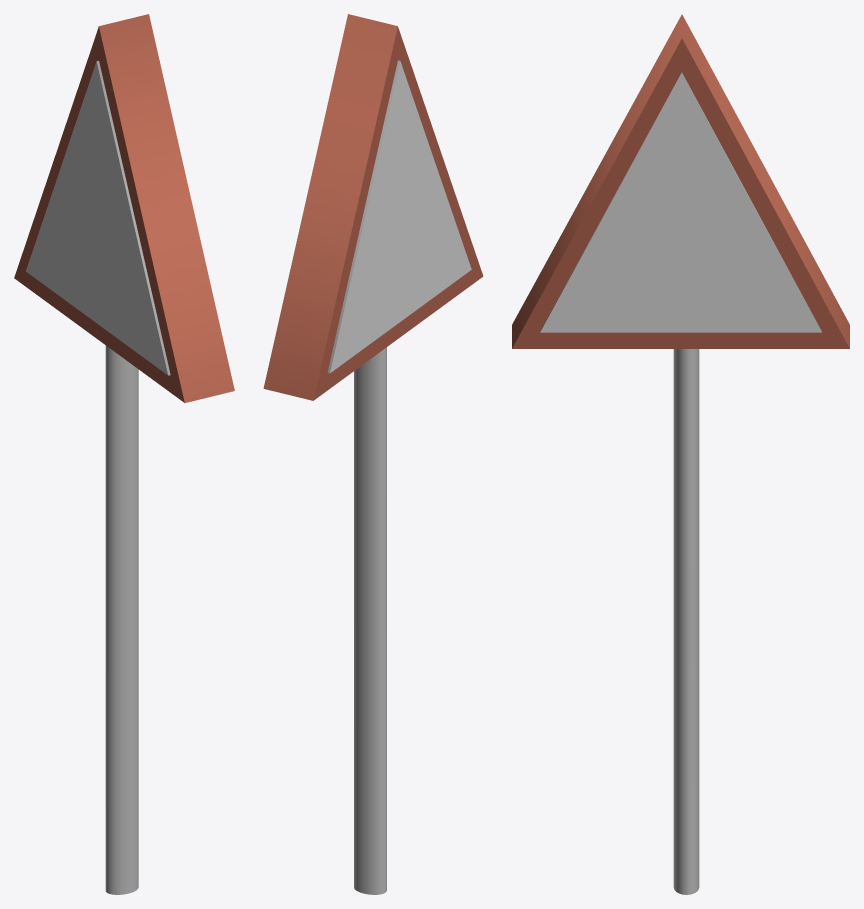
File: Sign.fbx
3 views of the same model, side by side, from view 1: azimuth 30°, elevation 25°; view 2: azimuth 150°, elevation 25°; view 3: azimuth 270°, elevation 25° (orthographic).
Visible parts, largest first — view 1: polySurface1; view 2: polySurface1; view 3: polySurface1.
Boxes of the visible parts, x1,y1,x2,y2 form: polySurface1: (14, 14, 234, 894); polySurface1: (263, 14, 483, 894); polySurface1: (512, 14, 849, 894).
Size of the model in its own units: 0.4417 by 6.69 by 2.38.
